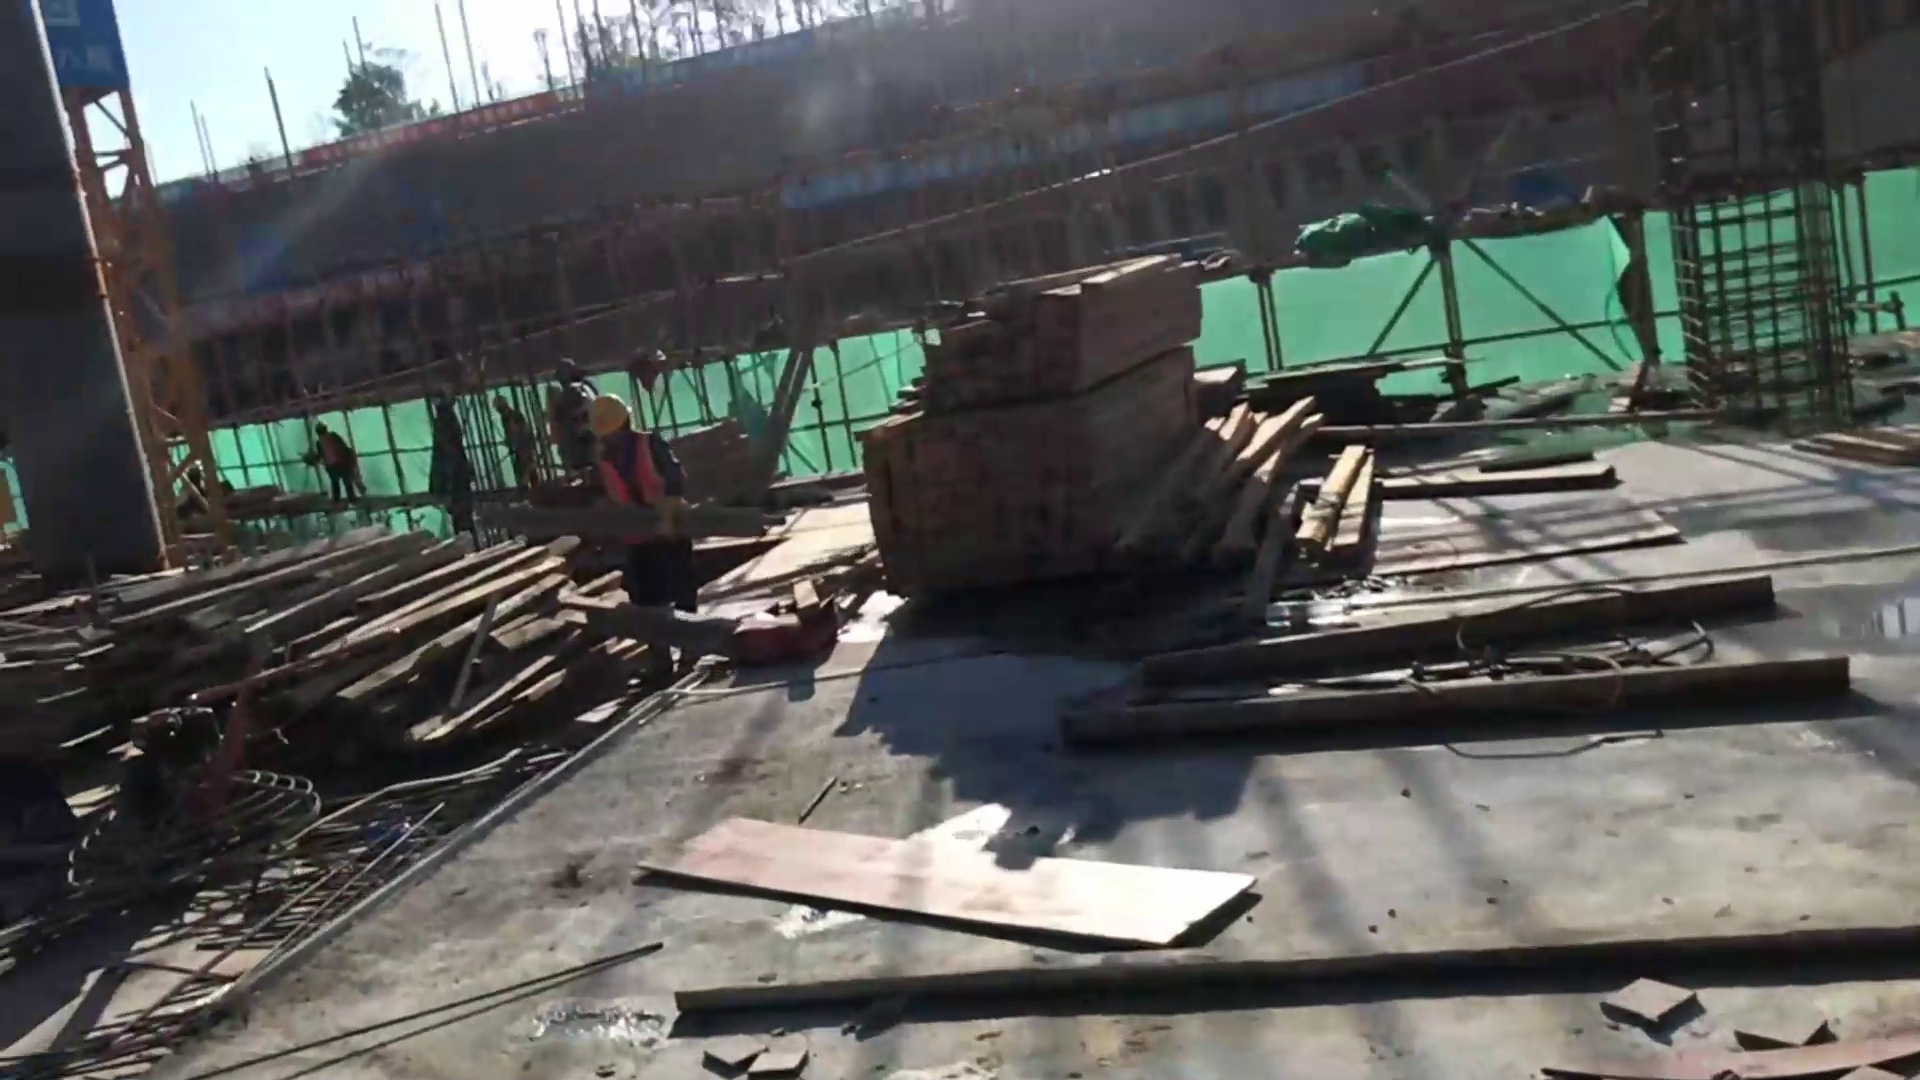helmet: (588, 398, 627, 435)
person: (571, 392, 692, 677), (489, 385, 539, 495), (309, 419, 358, 508)
